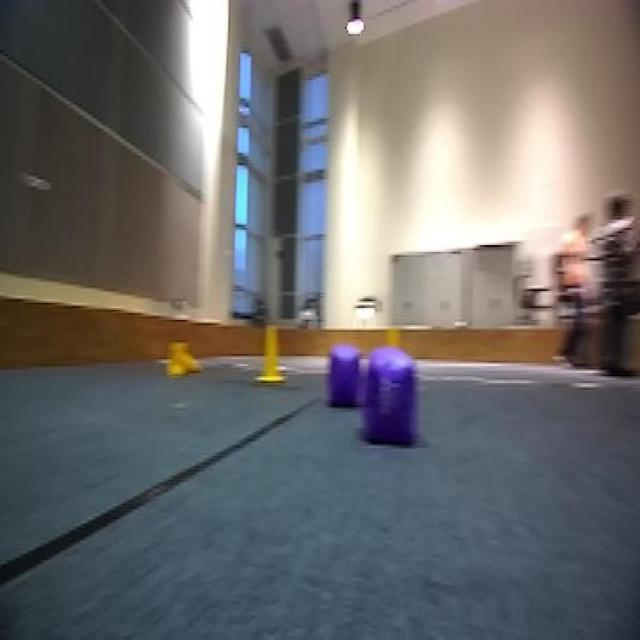frc_cone: (256, 322, 289, 386), (163, 337, 203, 381)
frc_cube: (360, 356, 419, 439), (330, 359, 359, 402)
